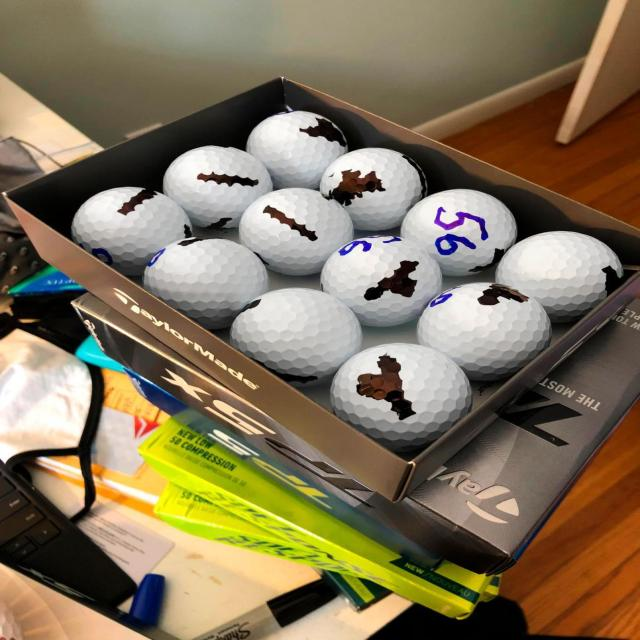ball: (66, 180, 194, 263)
